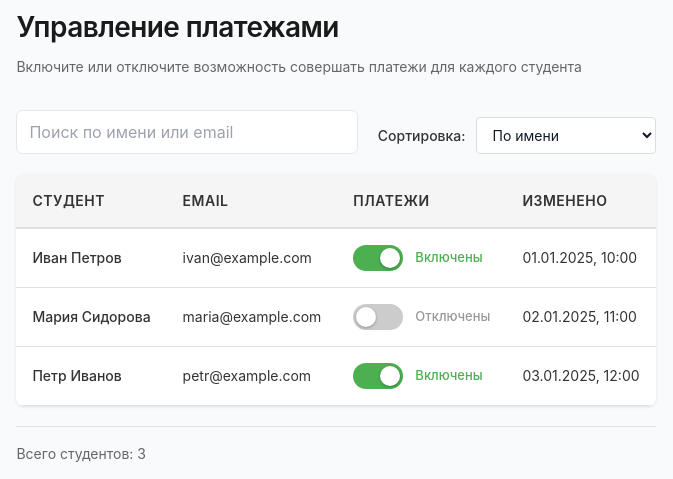
PaymentSettings › Empty State › should show empty state when search yields no results
In the field with test id "search-input": (187, 132) [16,110,358,154], type "nonexistent@example.com"
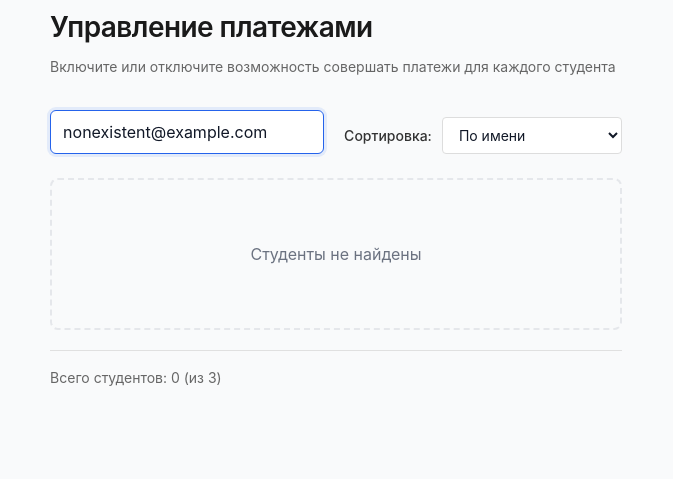
expect the text "Студенты не найдены" is shown: met, box [250,240,422,268]
expect the text "Всего студентов: 0 (из 3)" is shown: met, box [50,369,222,386]
